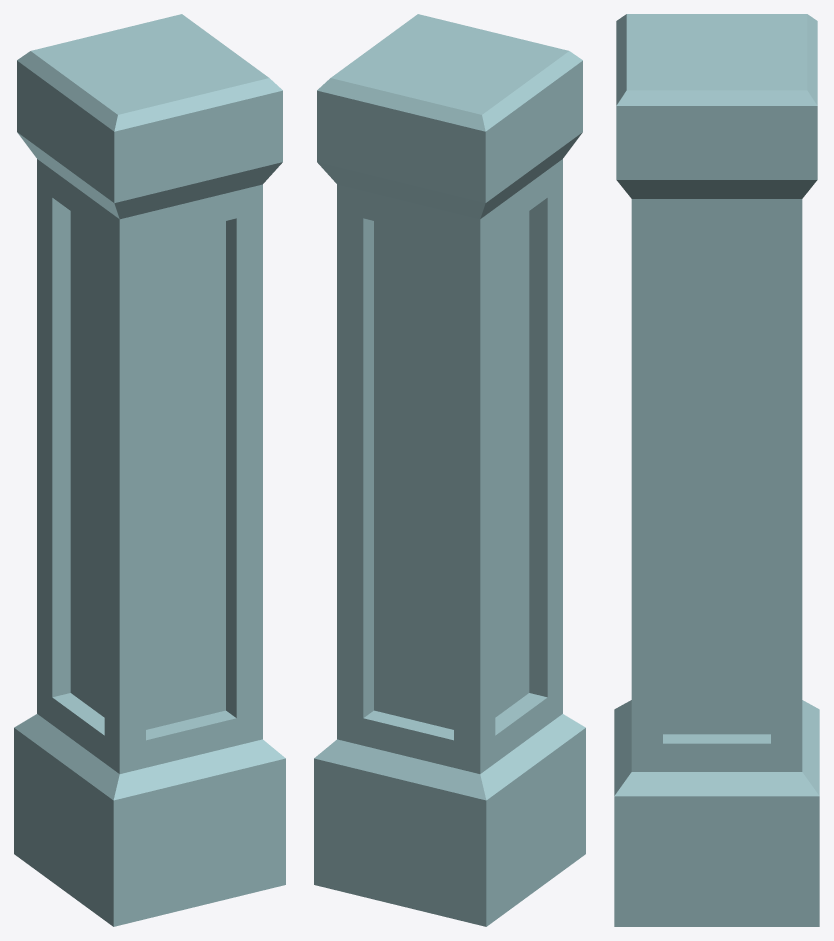
Rendered from stone_column.fbx.
The picture shows the model from 3 angles, left to right: view 1: azimuth 30°, elevation 25°; view 2: azimuth 150°, elevation 25°; view 3: azimuth 270°, elevation 25°; orthographic projection. The views are drawn at different scales.
Parts seen in each view (by area): view 1: stone_column; view 2: stone_column; view 3: stone_column.
Part boxes in pixels (x1,y1,x2,y2): stone_column: [14, 14, 285, 926]; stone_column: [314, 14, 585, 926]; stone_column: [614, 14, 819, 926].
Bounding box in the file's own units: 2.24 × 10 × 2.24.
